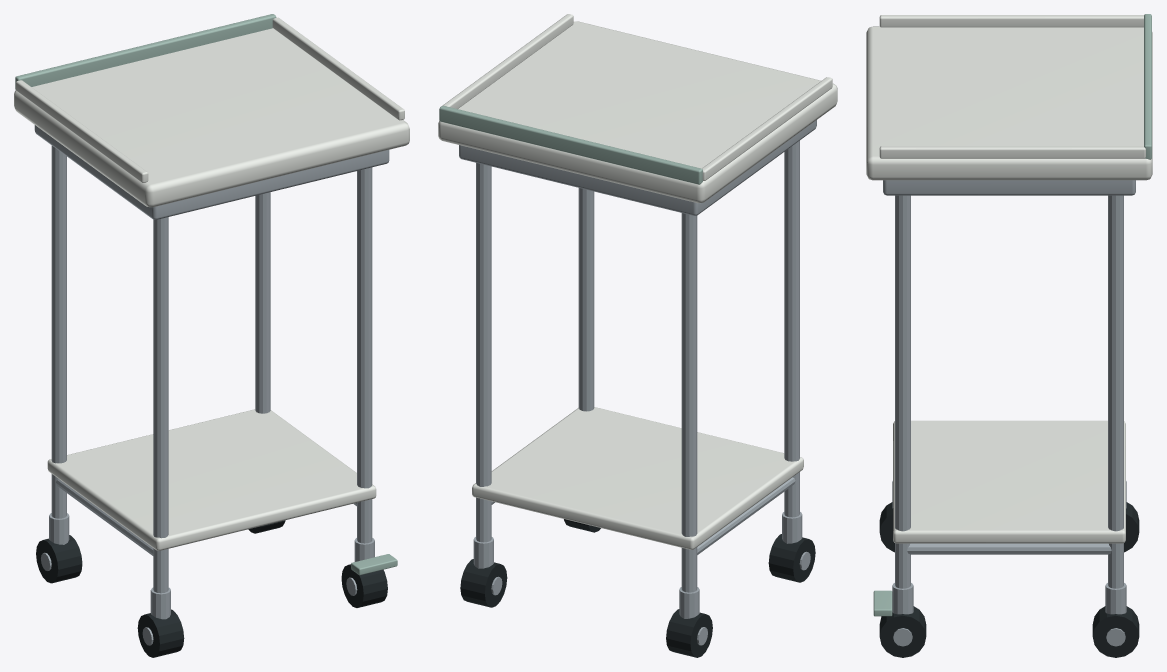
Rendered from sensor_equipment_table.fbx.
The picture shows the model from 3 angles, left to right: view 1: azimuth 30°, elevation 25°; view 2: azimuth 150°, elevation 25°; view 3: azimuth 270°, elevation 25°; orthographic projection. The views are drawn at different scales.
Parts seen in each view (by area): view 1: EQ_sensor_equipment_table_M_Ivory, EQ_sensor_equipment_table_M_SteelBrushed, EQ_sensor_equipment_table_M_RubberBlack, EQ_sensor_equipment_table_M_Sage; view 2: EQ_sensor_equipment_table_M_Ivory, EQ_sensor_equipment_table_M_SteelBrushed, EQ_sensor_equipment_table_M_RubberBlack, EQ_sensor_equipment_table_M_Sage; view 3: EQ_sensor_equipment_table_M_Ivory, EQ_sensor_equipment_table_M_SteelBrushed, EQ_sensor_equipment_table_M_RubberBlack, EQ_sensor_equipment_table_M_Sage.
Boxes of the visible parts, x1,y1,x2,y2 form: EQ_sensor_equipment_table_M_Ivory: [14, 17, 409, 550]; EQ_sensor_equipment_table_M_SteelBrushed: [34, 125, 389, 645]; EQ_sensor_equipment_table_M_RubberBlack: [36, 520, 387, 657]; EQ_sensor_equipment_table_M_Sage: [15, 14, 397, 575]; EQ_sensor_equipment_table_M_Ivory: [438, 14, 837, 549]; EQ_sensor_equipment_table_M_SteelBrushed: [459, 120, 816, 645]; EQ_sensor_equipment_table_M_RubberBlack: [460, 519, 815, 657]; EQ_sensor_equipment_table_M_Sage: [439, 105, 702, 184]; EQ_sensor_equipment_table_M_Ivory: [866, 15, 1152, 543]; EQ_sensor_equipment_table_M_SteelBrushed: [883, 180, 1135, 646]; EQ_sensor_equipment_table_M_RubberBlack: [879, 502, 1139, 657]; EQ_sensor_equipment_table_M_Sage: [873, 14, 1151, 616].
Bounding box in the file's own units: 0.48 × 0.8625 × 0.43.
